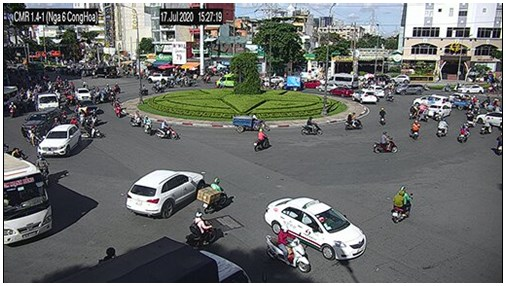xe_ban_tai: (146, 73, 171, 81)
xe_buyt: (3, 151, 52, 246)
xe_hoi: (263, 197, 368, 261), (126, 170, 205, 216), (38, 124, 82, 158), (22, 108, 57, 139), (416, 94, 448, 109), (477, 110, 504, 127), (353, 87, 376, 104), (424, 104, 450, 118), (396, 85, 425, 96), (455, 83, 484, 94), (364, 84, 383, 97), (330, 87, 353, 97), (76, 87, 90, 102), (389, 74, 410, 83), (267, 75, 285, 84), (302, 80, 319, 88)
xe_khach: (325, 75, 358, 88), (214, 75, 236, 86)
xe_may: (266, 225, 309, 273), (186, 212, 215, 248), (198, 177, 227, 213), (392, 185, 410, 225), (373, 131, 397, 154), (34, 154, 50, 185), (156, 120, 179, 141), (302, 117, 323, 138), (253, 128, 271, 152), (82, 119, 101, 139), (345, 111, 361, 131), (27, 126, 42, 147), (435, 118, 447, 139), (129, 109, 142, 128), (114, 99, 125, 121), (457, 122, 469, 142), (143, 115, 153, 135), (481, 117, 492, 135), (409, 103, 420, 121), (409, 120, 418, 140), (11, 145, 23, 160), (464, 108, 475, 123), (9, 100, 18, 117), (57, 106, 66, 123), (20, 95, 30, 110), (383, 90, 393, 101), (487, 82, 496, 92), (380, 108, 385, 125), (151, 80, 160, 89), (112, 83, 121, 91), (155, 85, 165, 92), (53, 118, 58, 127)
